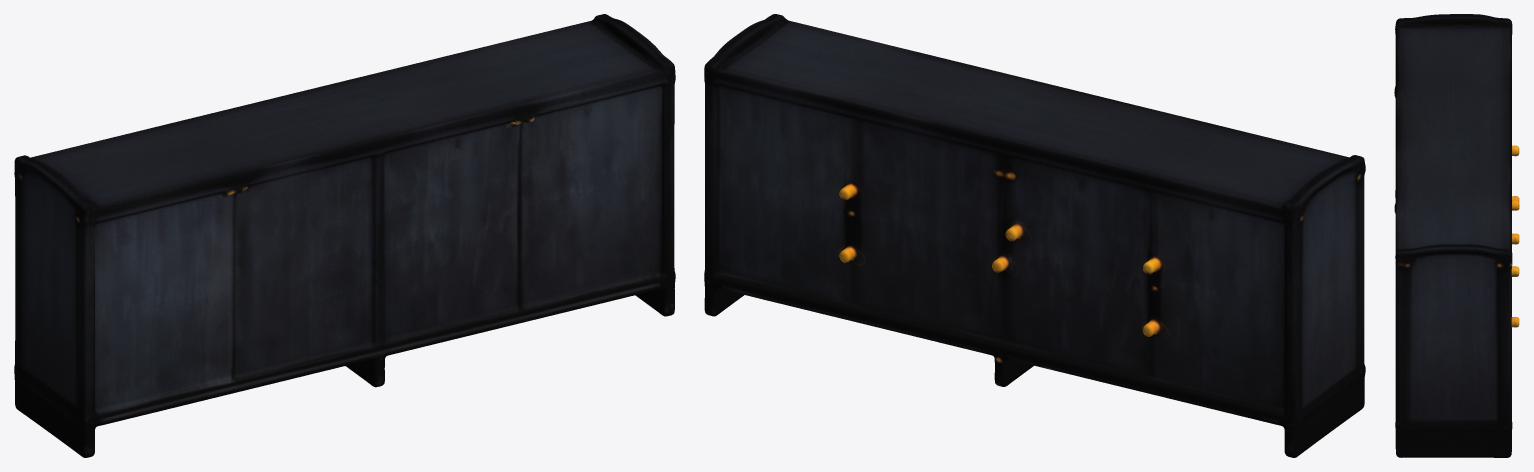
File: product-mid-century-modern-etro-sideboard-black-wash-poplar-02.glb
3 views of the same model, side by side, from view 1: azimuth 30°, elevation 25°; view 2: azimuth 150°, elevation 25°; view 3: azimuth 270°, elevation 25° (orthographic). The views are drawn at different scales.
Visible parts, largest first — view 1: geometry_0; view 2: geometry_0; view 3: geometry_0.
Boxes of the visible parts, x1=… form: geometry_0: x1=14, y1=14, x2=675, y2=457; geometry_0: x1=704, y1=14, x2=1365, y2=457; geometry_0: x1=1394, y1=14, x2=1519, y2=457.
Bounding box in the file's own units: 1.97 × 0.8236 × 0.4429.
Materials: 1 (1 with a texture image).
